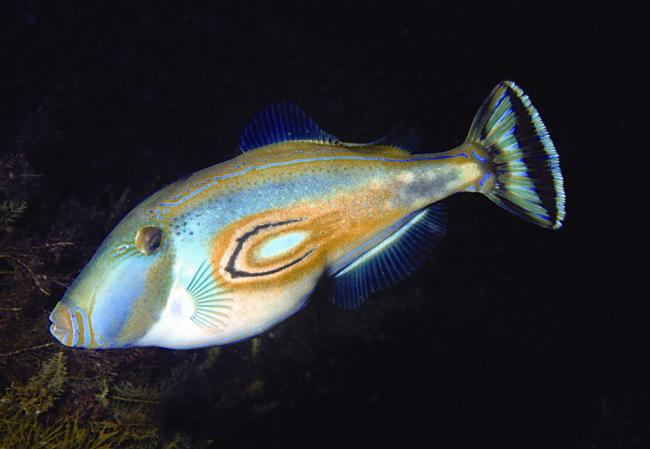fish: (48, 82, 566, 350)
